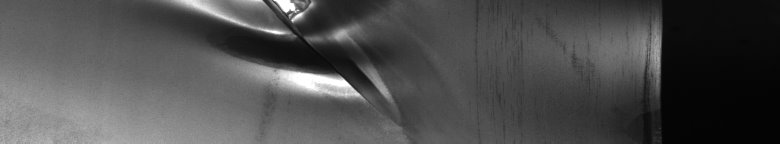ke: (162, 4, 406, 136)
